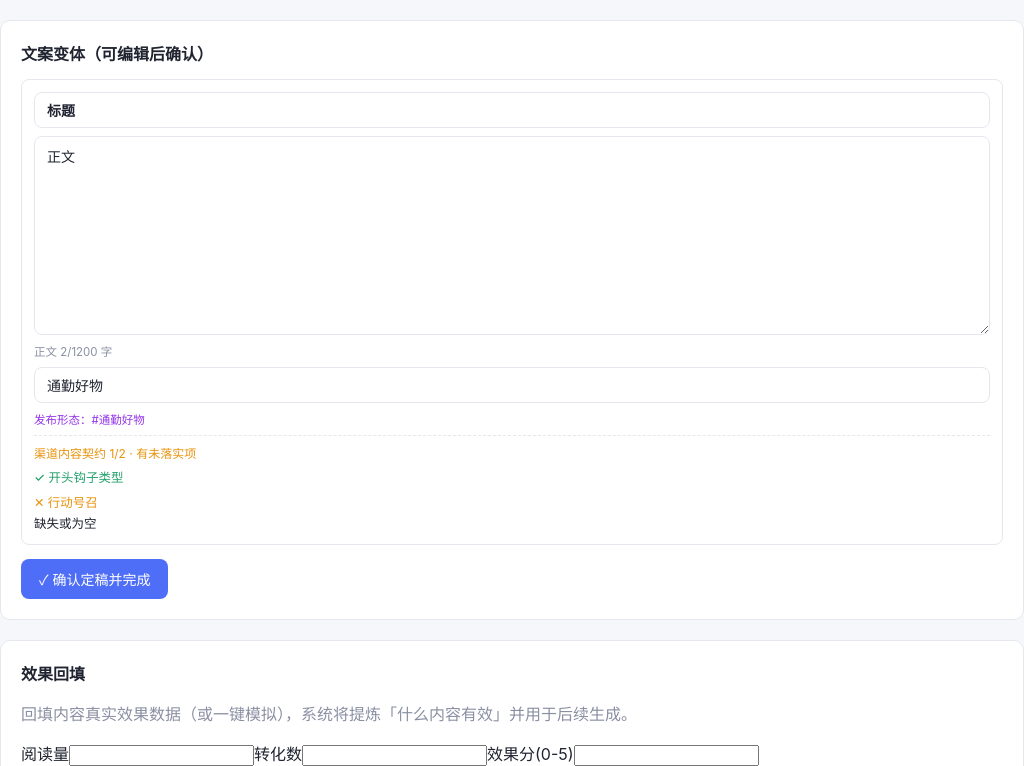
it: TaskDetail 标签可发布形态预览 › 编辑标签后发布形态实时更新
The image size is (1024, 766).
(page scrolled)
Expected: the text "发布形态：#通勤好物" is shown, top-left (34, 413), bottom-right (145, 427)
Replace the text in the 2nd field with placeholder "话题标签（空格分隔）" with "通勤好物 保温杯": coordinates (512, 385) top-left (34, 367), bottom-right (990, 403)
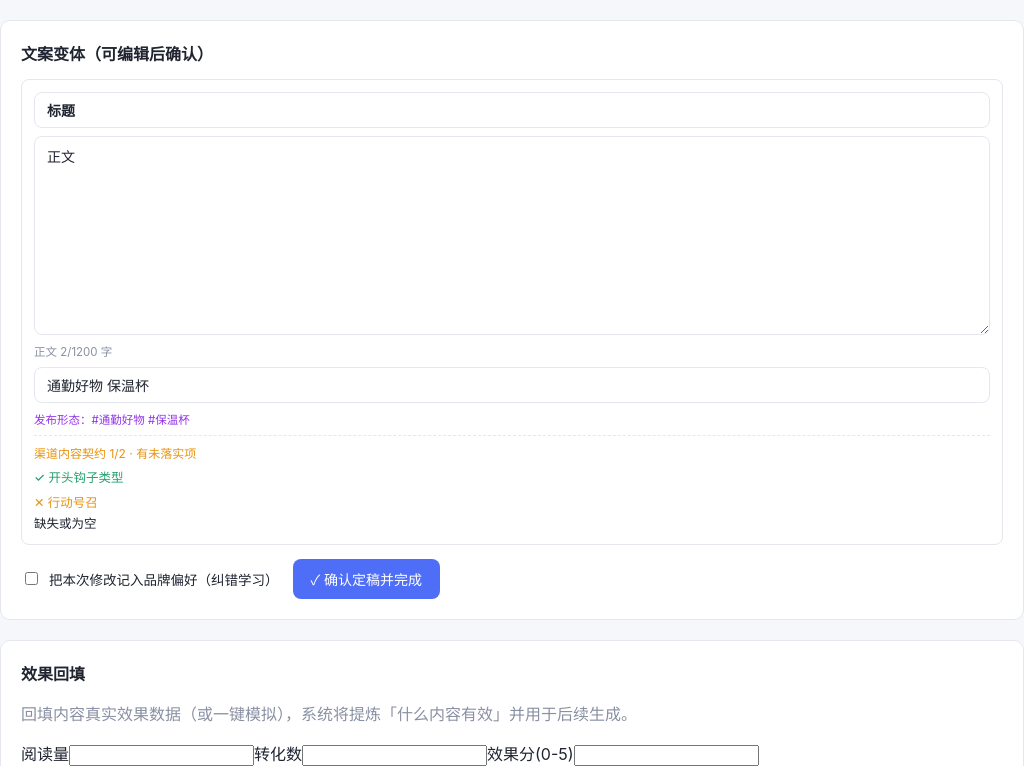
Result: the text "发布形态：#通勤好物 #保温杯" is shown at top-left (34, 413), bottom-right (190, 427)
